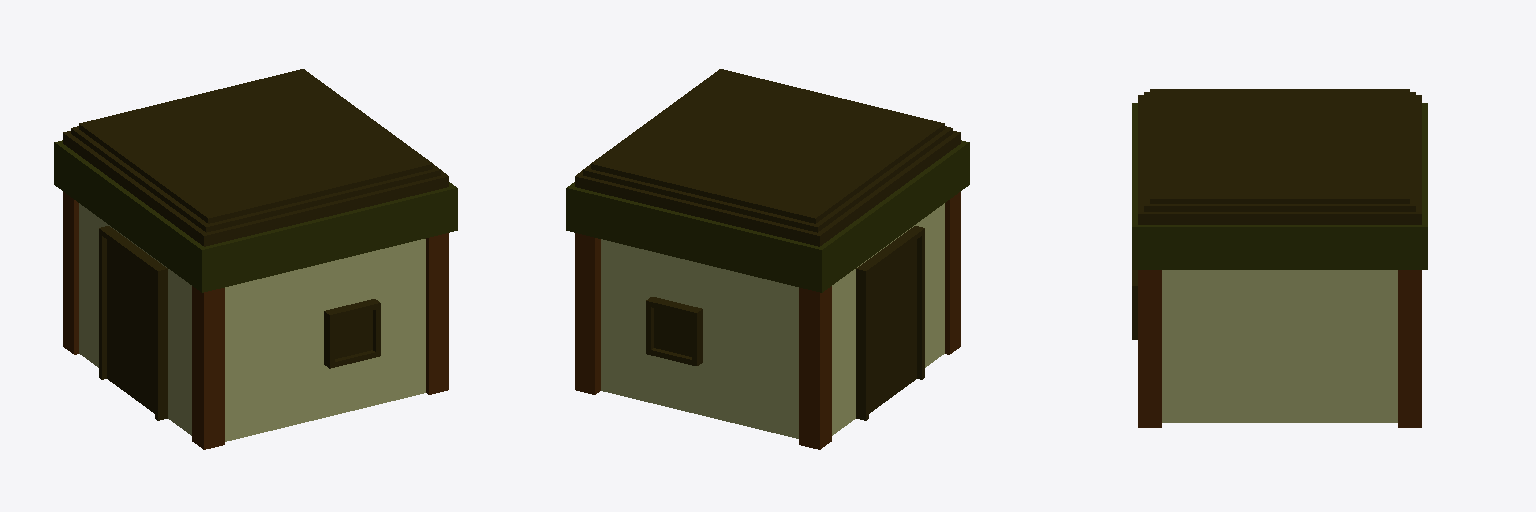
3 renders of one model, left to right at view 1: azimuth 30°, elevation 25°; view 2: azimuth 150°, elevation 25°; view 3: azimuth 270°, elevation 25°, orthographic.
Parts seen in each view (by area): view 1: object 1; view 2: object 1; view 3: object 1.
Part boxes in pixels (bbox=[...]): object 1: bbox=[54, 69, 457, 449]; object 1: bbox=[566, 69, 969, 449]; object 1: bbox=[1132, 89, 1427, 427].
Bounding box in the file's own units: 5 × 4.2 × 5.
1 materials, 1 textured.